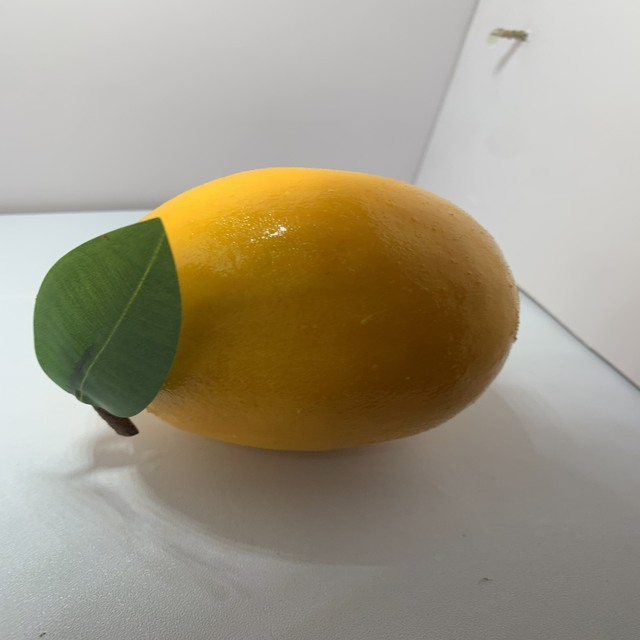Cam vang: (101, 159, 528, 460)
